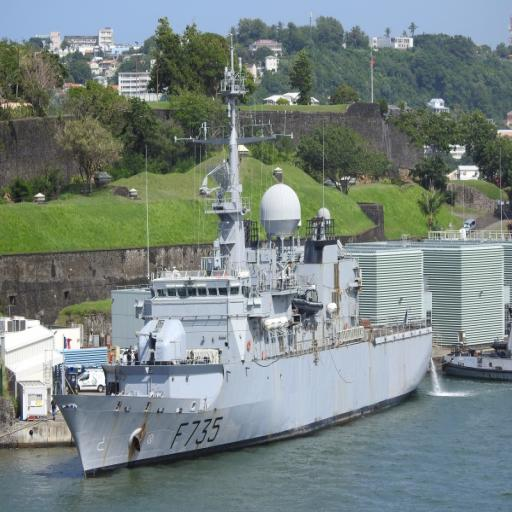Fragata: (49, 31, 437, 487)
